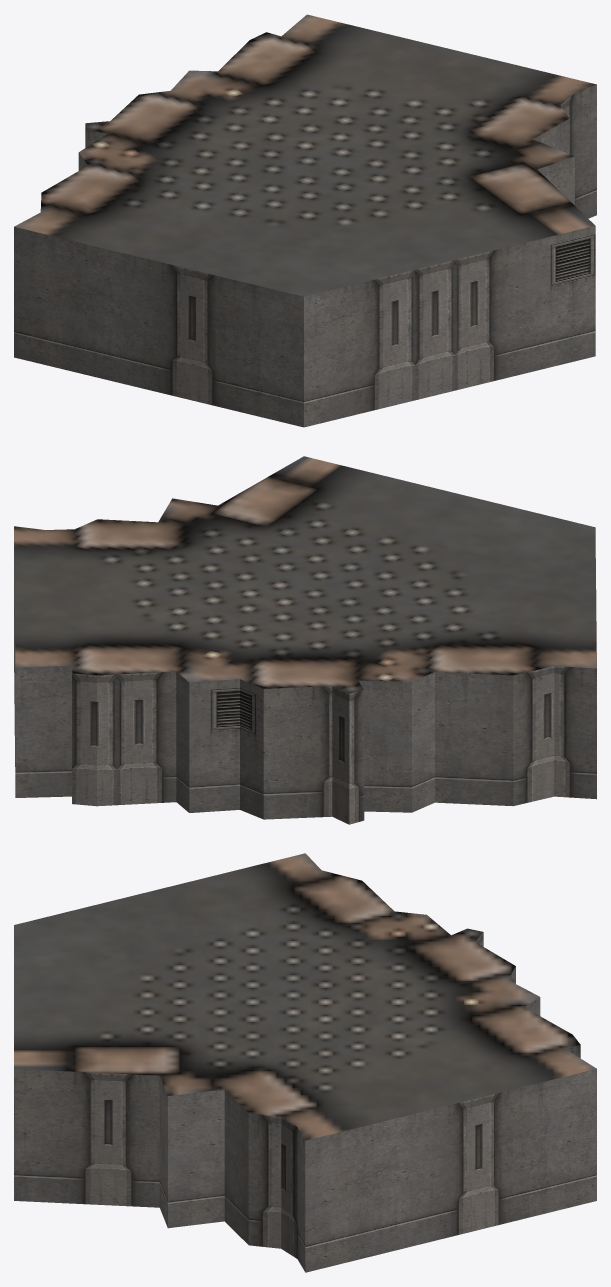
Rendered from building_hard_a_26.glb.
The picture shows the model from 3 angles, top to bottom: view 1: azimuth 30°, elevation 25°; view 2: azimuth 150°, elevation 25°; view 3: azimuth 270°, elevation 25°; orthographic projection.
Parts seen in each view (by area): view 1: buildings/saxarba/building_hard/building_hard_a_26; view 2: buildings/saxarba/building_hard/building_hard_a_26; view 3: buildings/saxarba/building_hard/building_hard_a_26.
Part boxes in pixels (<box>): buildings/saxarba/building_hard/building_hard_a_26: <box>14,14,596,427</box>; buildings/saxarba/building_hard/building_hard_a_26: <box>14,456,596,824</box>; buildings/saxarba/building_hard/building_hard_a_26: <box>14,853,596,1272</box>.
Size of the model in its own units: 84 by 18 by 72.
